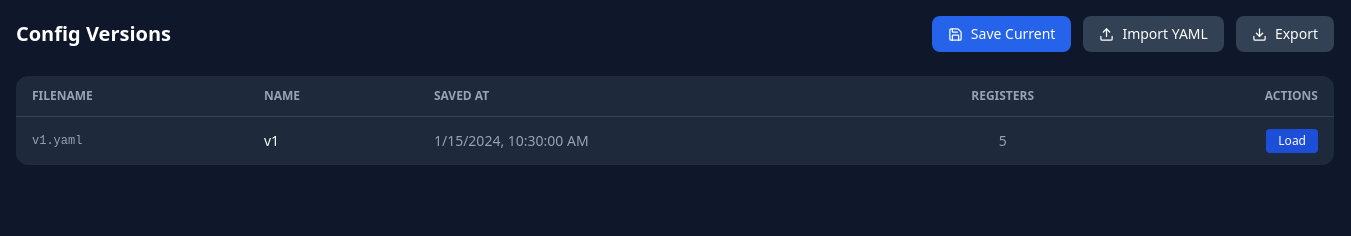
Test: Versions page — with device › shows error banner when saveVersion fails
The image size is (1351, 236).
Expected: the text "v1.yaml" is shown, 32,134 -> 82,148
Click the button "Save Current" at (1002, 34), box 932,16 -> 1071,52
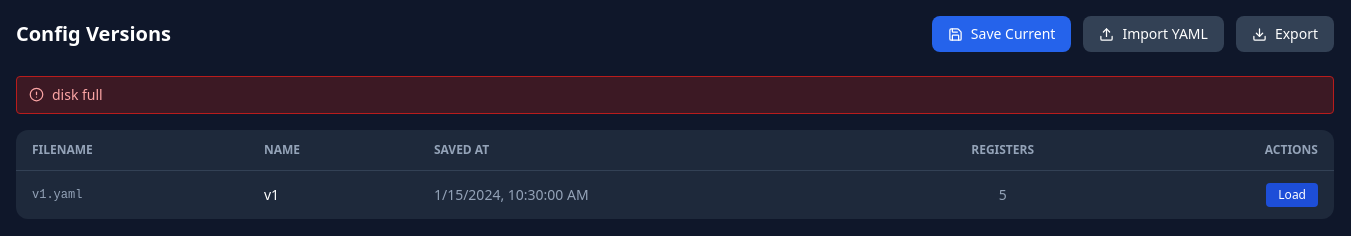
Expected: the text "disk full" is shown, 52,85 -> 103,104
